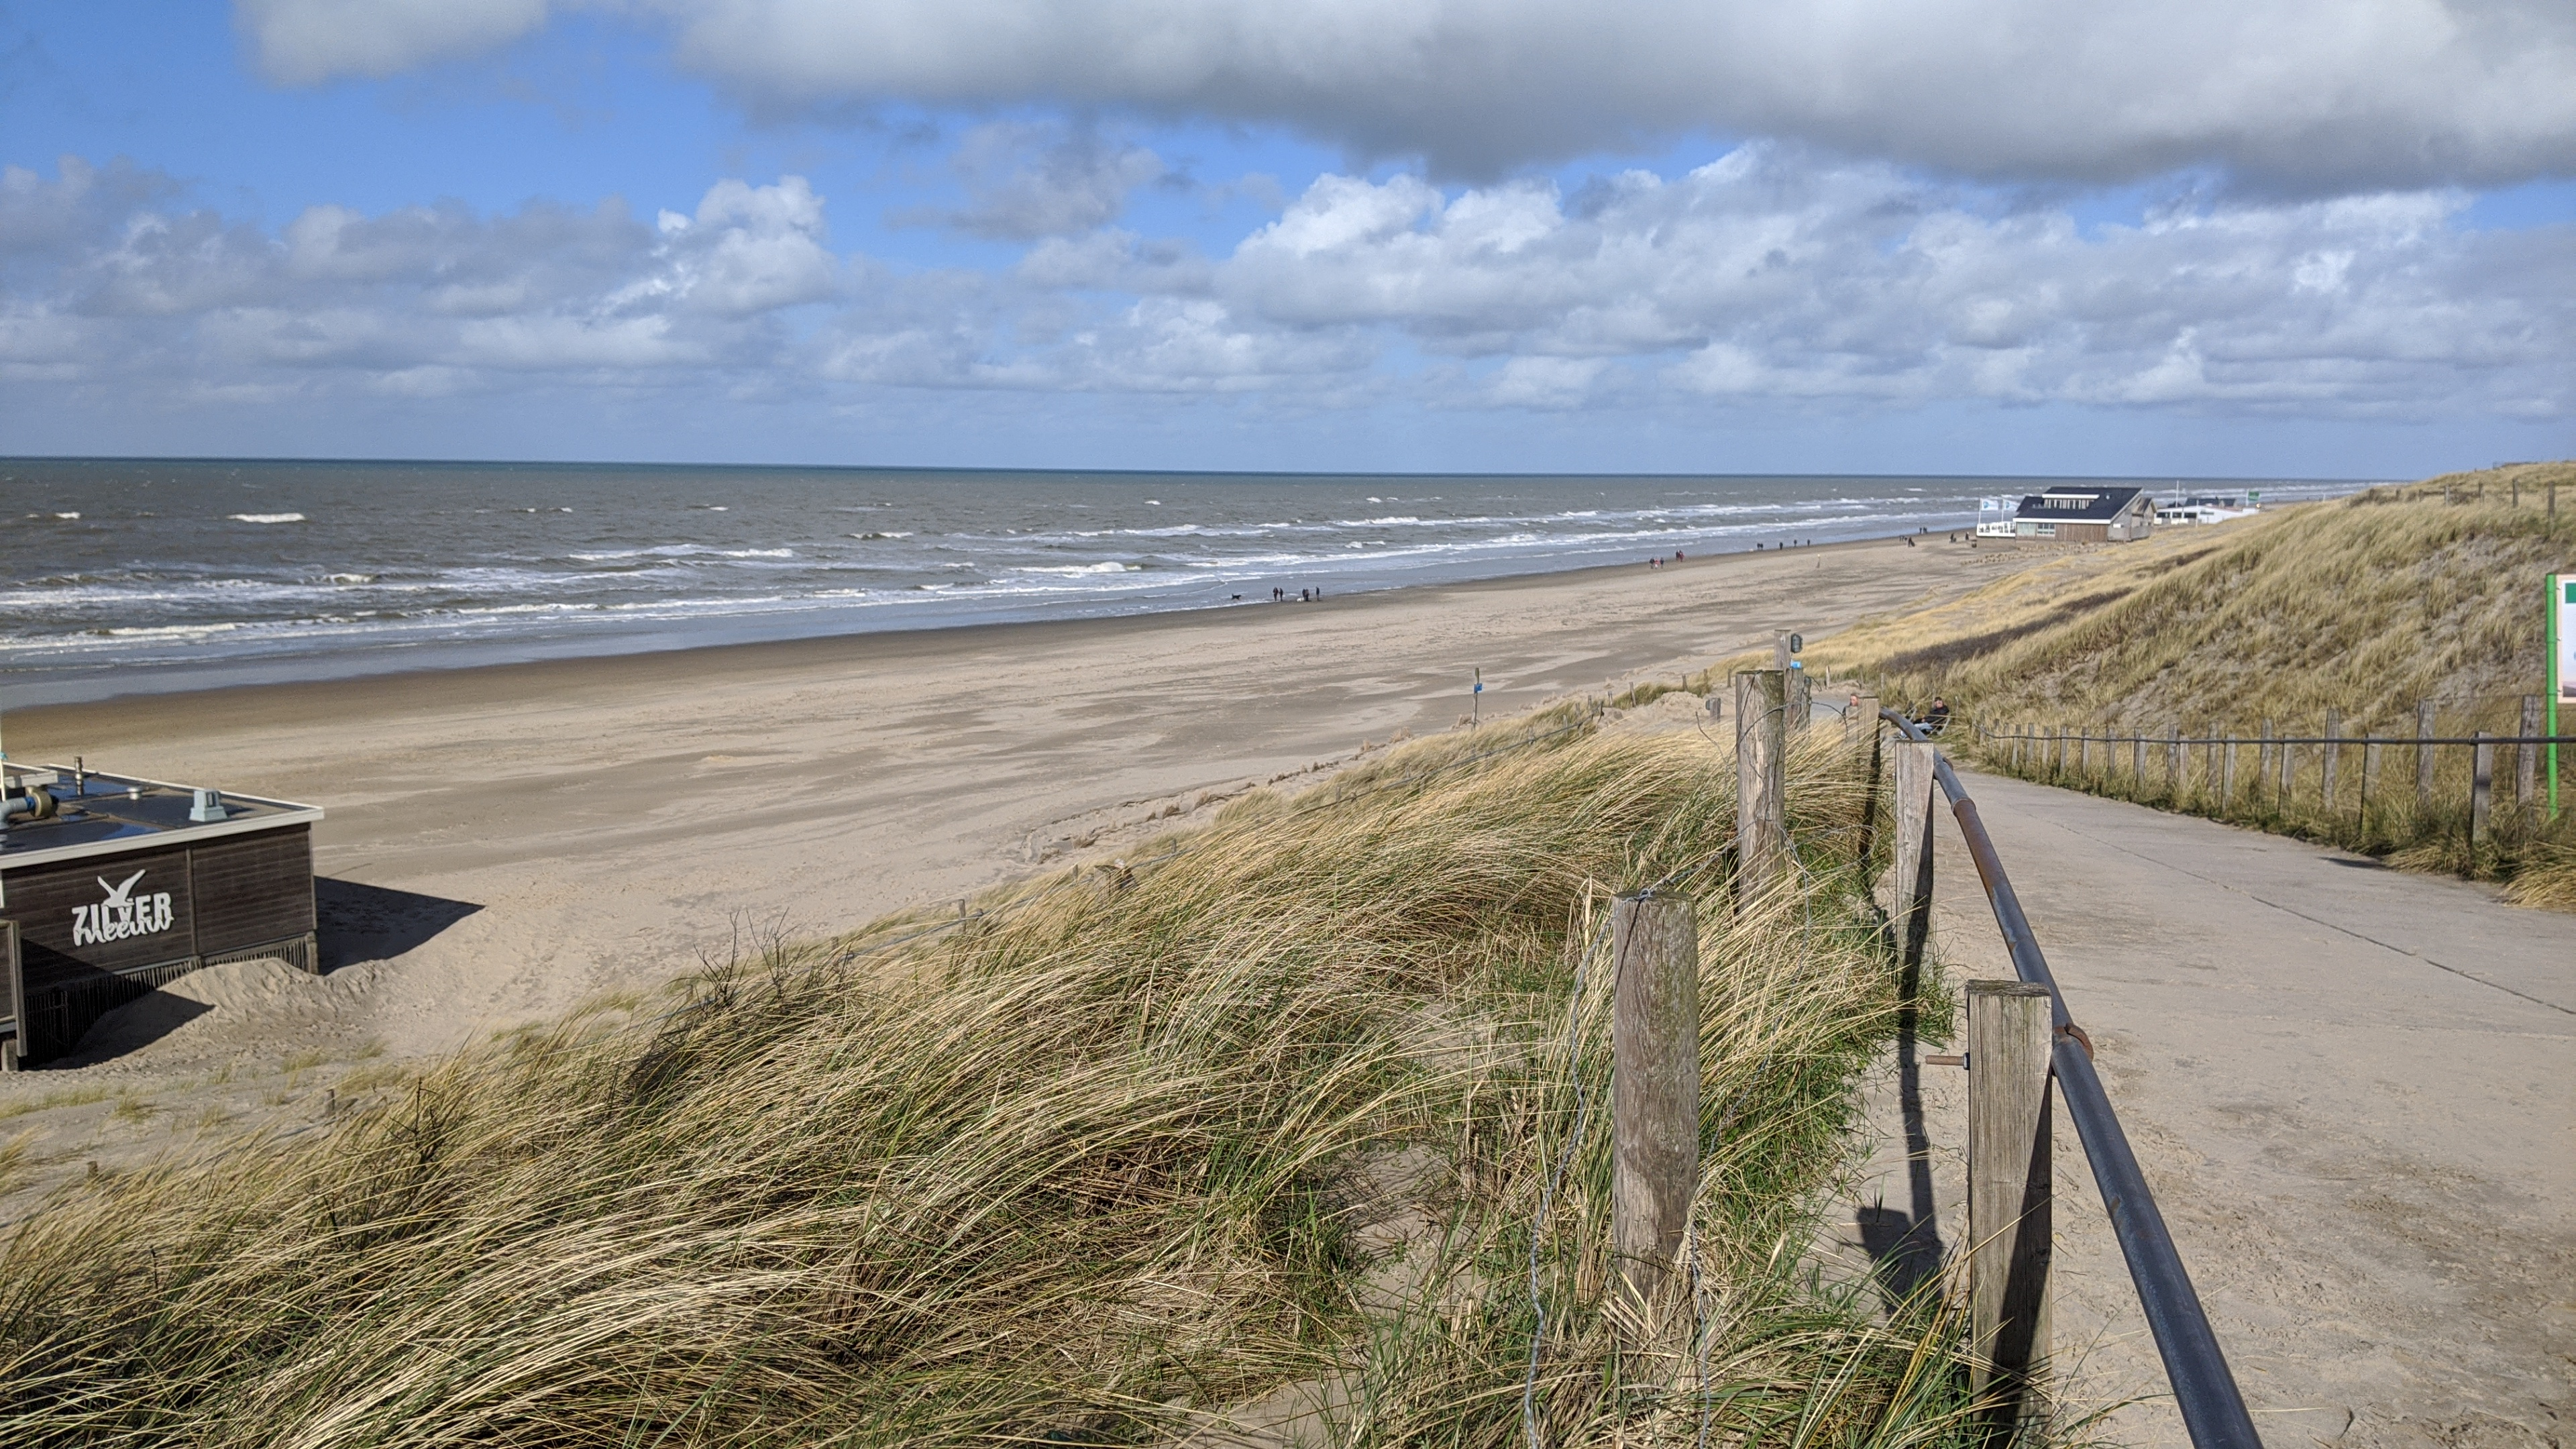zilvermeeuw: (4, 743, 359, 1081)
